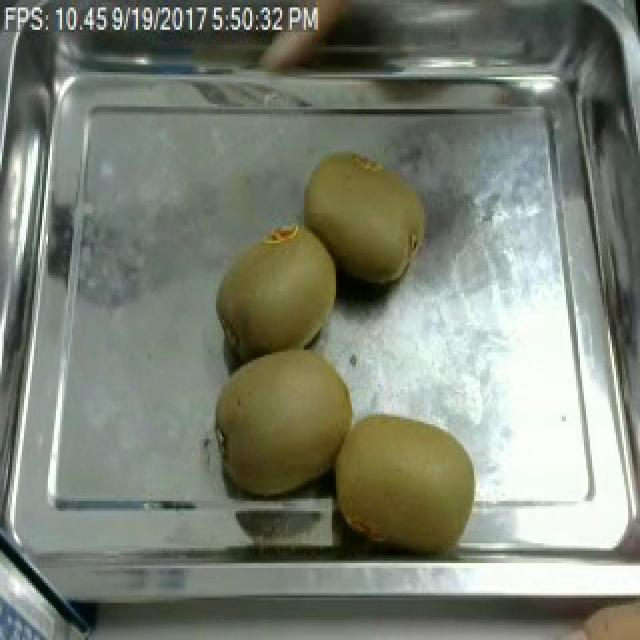Fruit: (206, 338, 362, 503), (326, 404, 488, 556), (294, 141, 438, 293), (208, 216, 346, 362), (556, 590, 640, 640)
